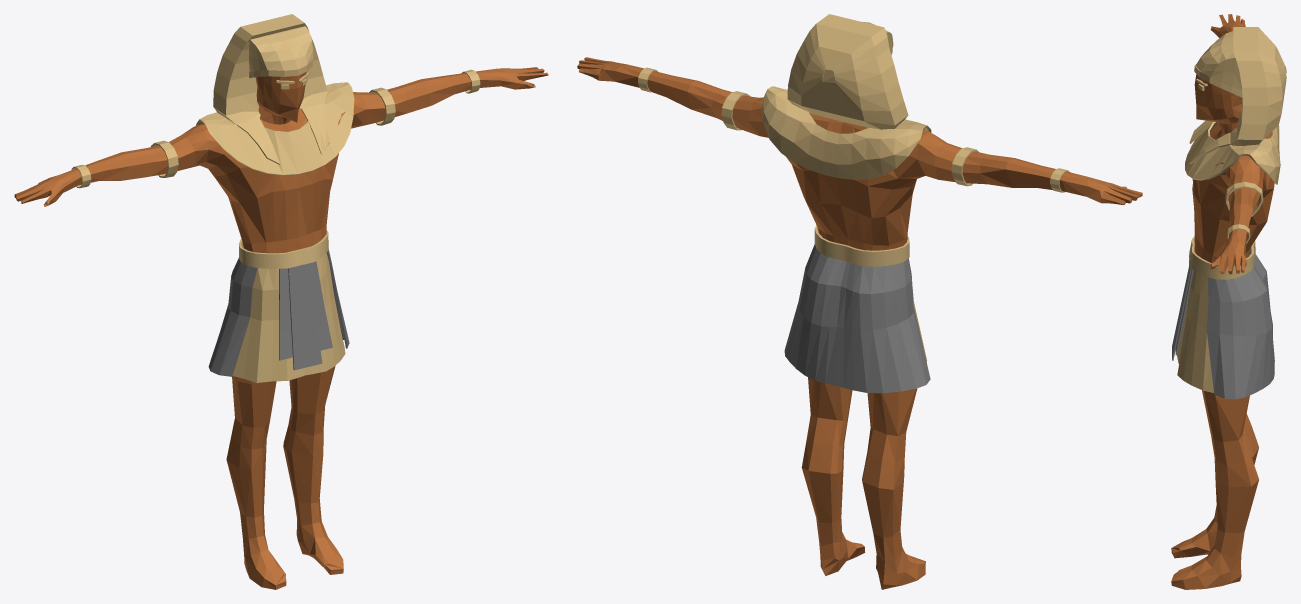
The model's file is SM_pharao_egypt.fbx.
3 views of the same model, side by side, from view 1: azimuth 30°, elevation 25°; view 2: azimuth 150°, elevation 25°; view 3: azimuth 270°, elevation 25° (orthographic). The views are drawn at different scales.
Visible parts, largest first — view 1: Object1284357; view 2: Object1284357; view 3: Object1284357.
Boxes of the visible parts, left/top/right/bottom form: Object1284357: left=14, top=14, right=548, bottom=589; Object1284357: left=577, top=14, right=1142, bottom=589; Object1284357: left=1171, top=14, right=1286, bottom=589.
Size of the model in its own units: 80.91 by 15.31 by 77.83.
